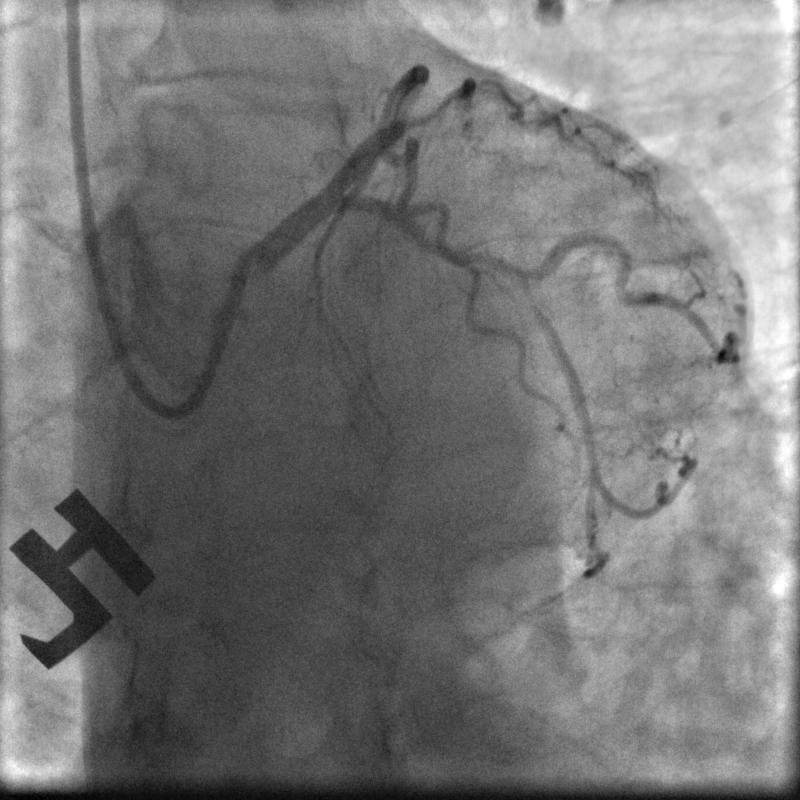Stenosis: (470, 246, 540, 313)
